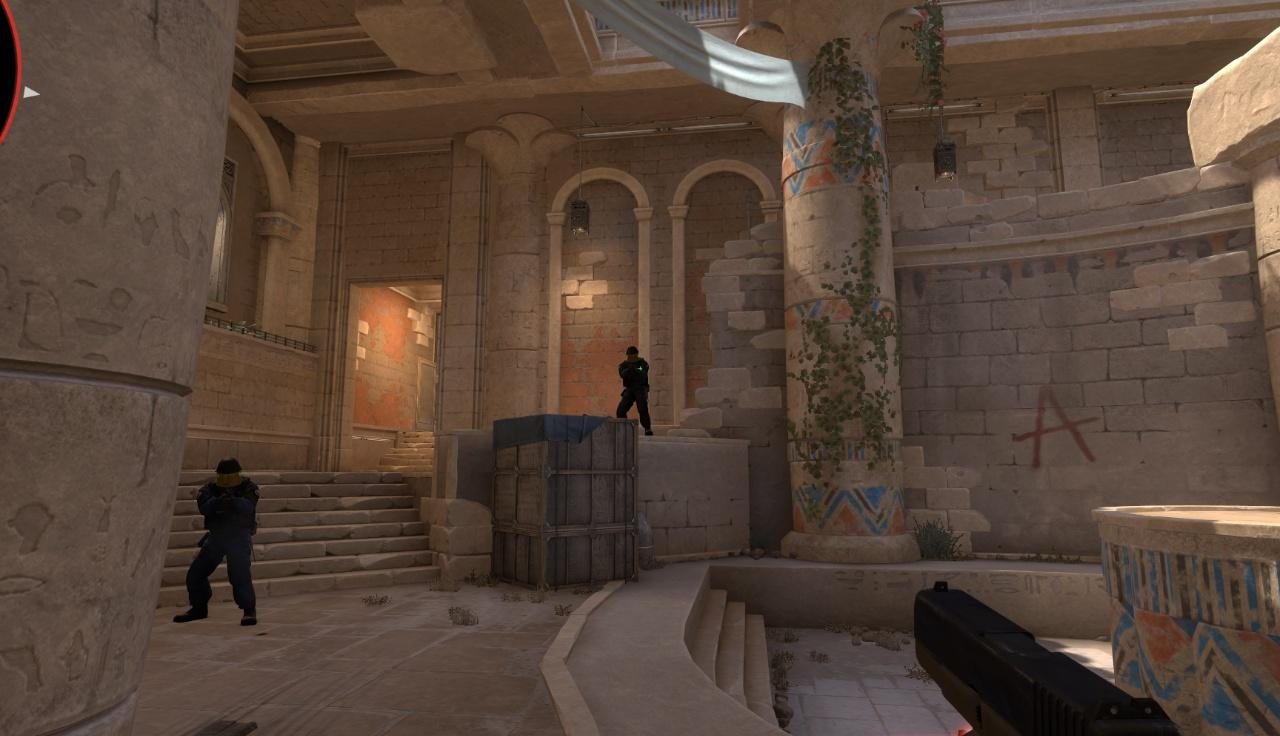ct: (174, 455, 260, 625), (616, 346, 651, 434)
cthead: (214, 456, 244, 487), (625, 345, 639, 362)
pistol: (912, 583, 1183, 734)
